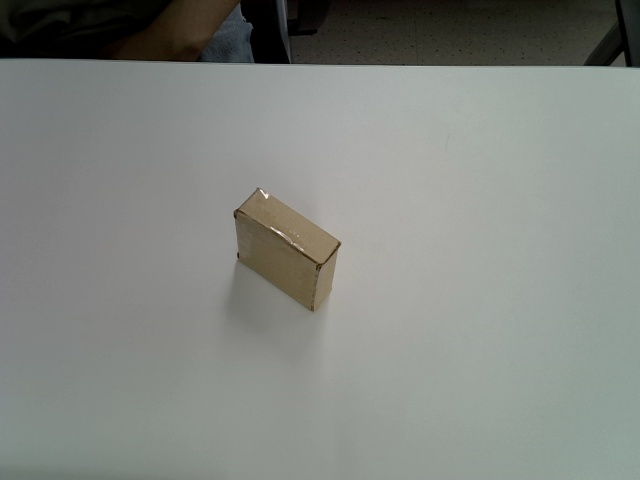normal: (233, 187, 342, 311)
